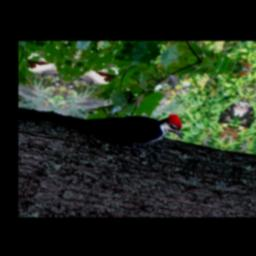Woodpecker: (40, 93, 195, 163)
